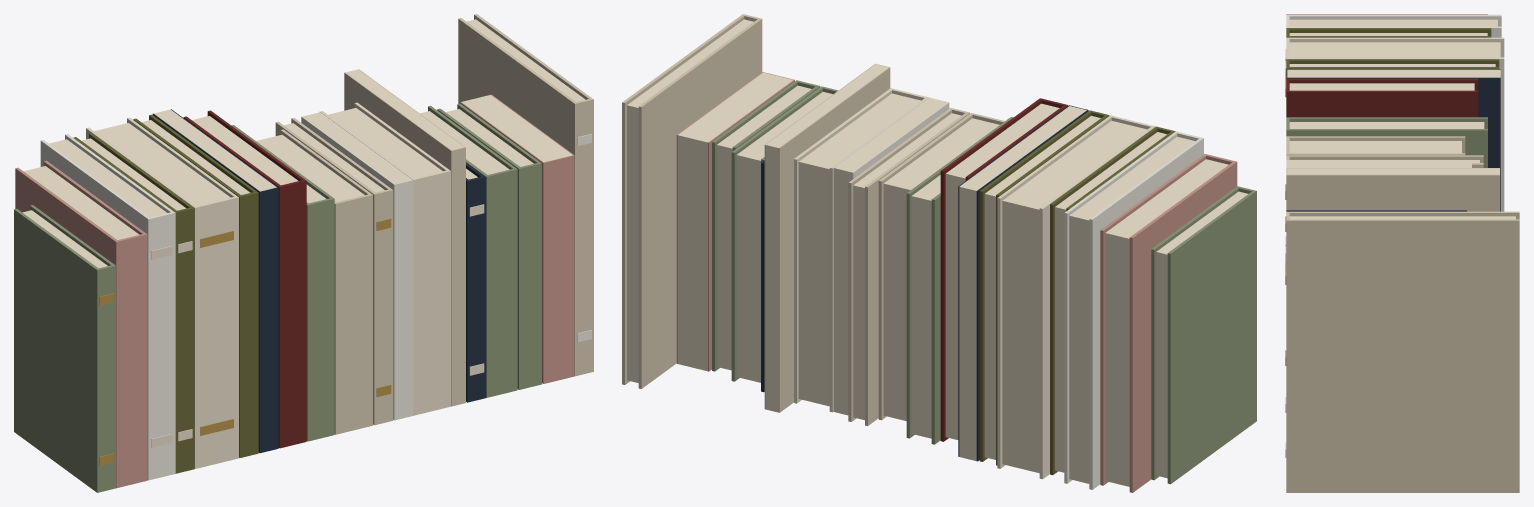
3 views of the same model, side by side, from view 1: azimuth 30°, elevation 25°; view 2: azimuth 150°, elevation 25°; view 3: azimuth 270°, elevation 25° (orthographic). The views are drawn at different scales.
Visible parts, largest first — view 1: book, book.004, book.018, book.001, book.012, book.002, book.009, book.007, book.017, book.015, book.013, book.006 (+7 smaller); view 2: book, book.018, book.004, book.001, book.002, book.012, book.013, book.017, book.009, book.010, book.008, book.015 (+7 smaller); view 3: book.018, book.013, book.007, book.004, book.008, book.006, book.009, book.002, book.005, book.003, book.011, book.010 (+1 smaller).
Boxes of the visible parts, box(x1,y1,x2,y2) form: book: box(14, 205, 115, 492); book.004: box(86, 117, 238, 468); book.018: box(458, 14, 593, 376); book.001: box(15, 160, 147, 488); book.012: box(320, 102, 450, 415); book.002: box(40, 134, 175, 480); book.009: box(256, 129, 372, 434); book.007: box(183, 110, 306, 448); book.017: box(460, 94, 574, 383); book.015: box(420, 105, 517, 397); book.013: box(344, 69, 465, 406); book.006: box(152, 109, 278, 453); book: box(1151, 186, 1256, 484); book.018: box(622, 14, 762, 388); book.004: box(997, 115, 1155, 479); book.001: box(1100, 154, 1237, 492); book.002: box(1064, 131, 1203, 489); book.012: box(794, 88, 929, 412); book.013: box(764, 63, 890, 412); book.017: box(676, 72, 794, 371); book.009: box(878, 113, 1004, 420); book.010: box(848, 108, 969, 425); book.008: box(906, 117, 1013, 444); book.015: box(731, 86, 838, 382); book.018: box(1285, 211, 1519, 492); book.013: box(1286, 168, 1499, 211); book.007: box(1286, 78, 1478, 117); book.004: box(1285, 37, 1504, 284); book.008: box(1286, 117, 1487, 167); book.006: box(1286, 69, 1500, 211); book.009: box(1286, 136, 1465, 155); book.002: box(1285, 14, 1501, 237); book.005: box(1286, 59, 1499, 68); book.003: box(1285, 28, 1491, 72); book.011: box(1286, 160, 1471, 167); book.010: box(1285, 155, 1483, 365).
Size of the model in its own units: 0.4757 by 0.2494 by 0.1945.
